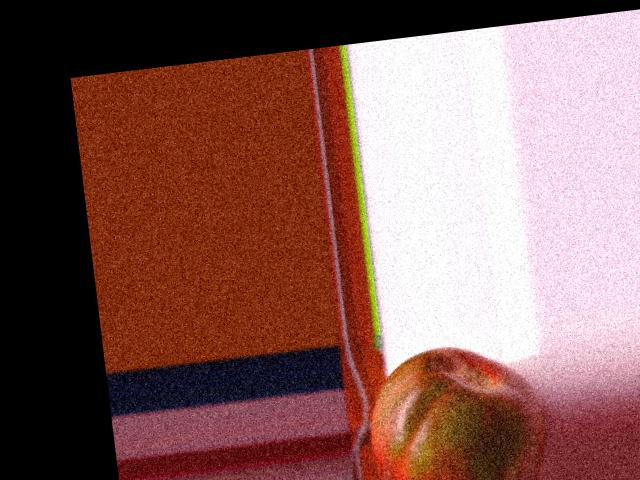tomato: (360, 336, 550, 480)
